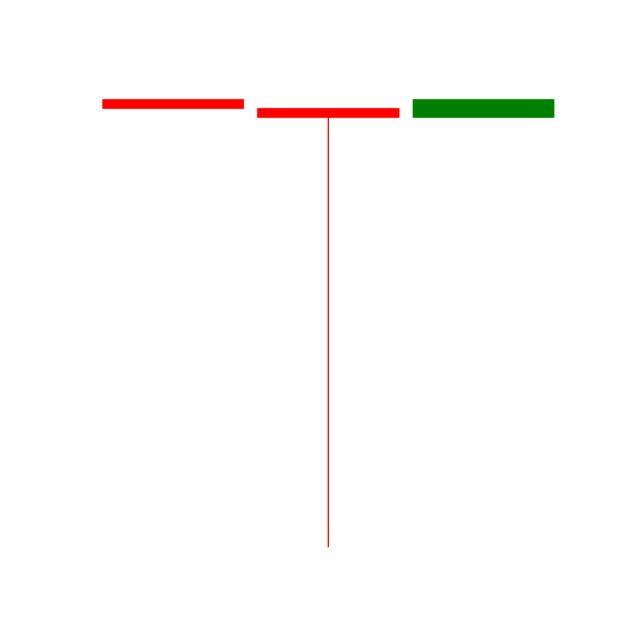Hanging Man: (250, 104, 407, 553)
